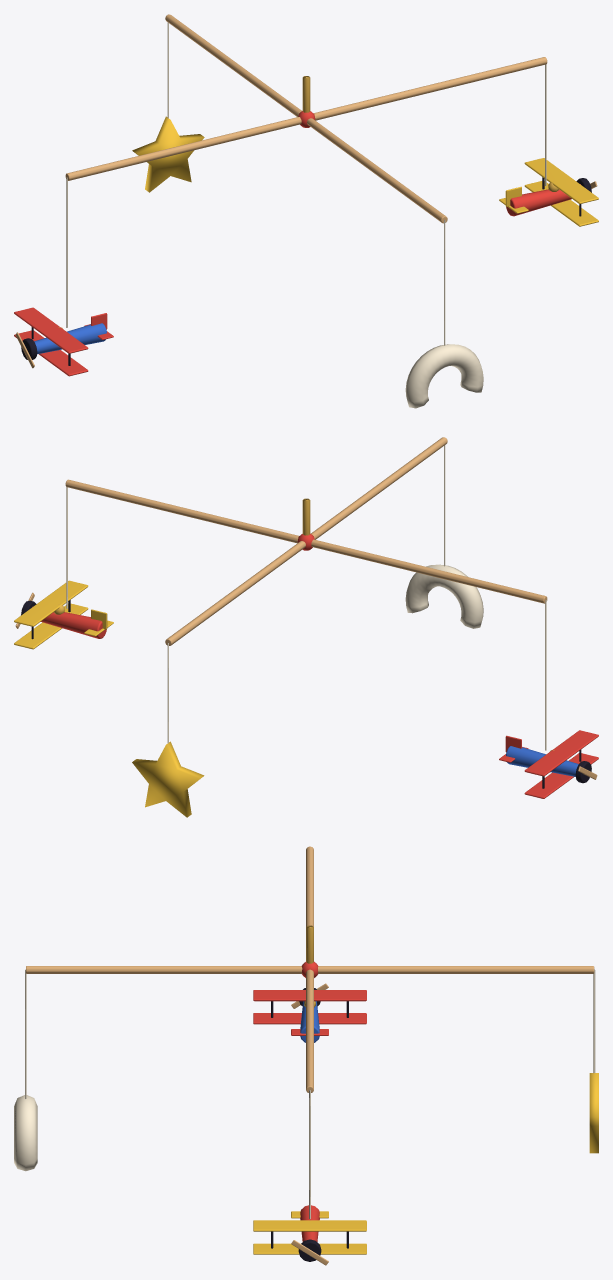
File: toy_mobile.glb
3 renders of one model, top to bottom at view 1: azimuth 30°, elevation 25°; view 2: azimuth 150°, elevation 25°; view 3: azimuth 270°, elevation 25°, orthographic. The views are drawn at different scales.
Visible parts, largest first — view 1: toy_mobile; view 2: toy_mobile; view 3: toy_mobile.
Part boxes in pixels (box(x1,y1,x2,y2)): toy_mobile: box(14, 14, 598, 408); toy_mobile: box(14, 437, 598, 817); toy_mobile: box(14, 846, 598, 1265).
Bounding box in the file's own units: 14.14 × 5.27 × 12.35.
